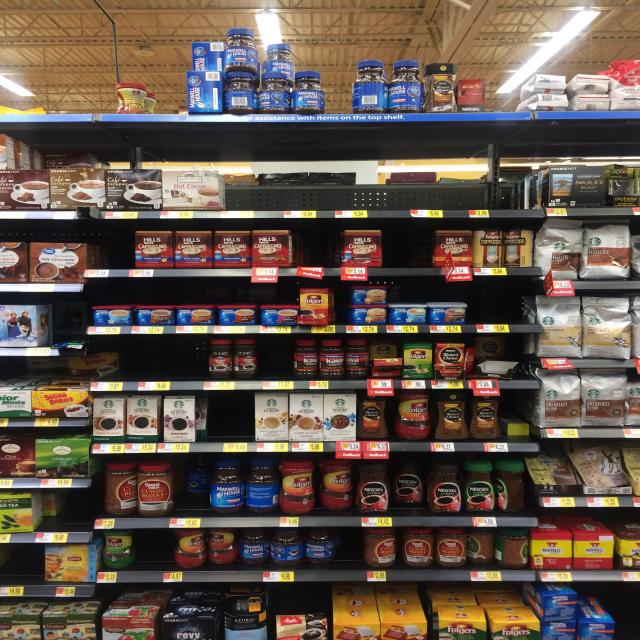100- O.O.S: (139, 338, 202, 390), (334, 175, 407, 217), (212, 392, 254, 452), (468, 284, 519, 332), (225, 176, 279, 217), (410, 175, 462, 217), (283, 175, 332, 218), (466, 174, 512, 218), (385, 230, 429, 274), (258, 337, 293, 389), (139, 529, 173, 582), (9, 544, 43, 596), (61, 489, 89, 542), (103, 228, 133, 276), (115, 340, 138, 390), (305, 231, 330, 275), (346, 529, 361, 581)
